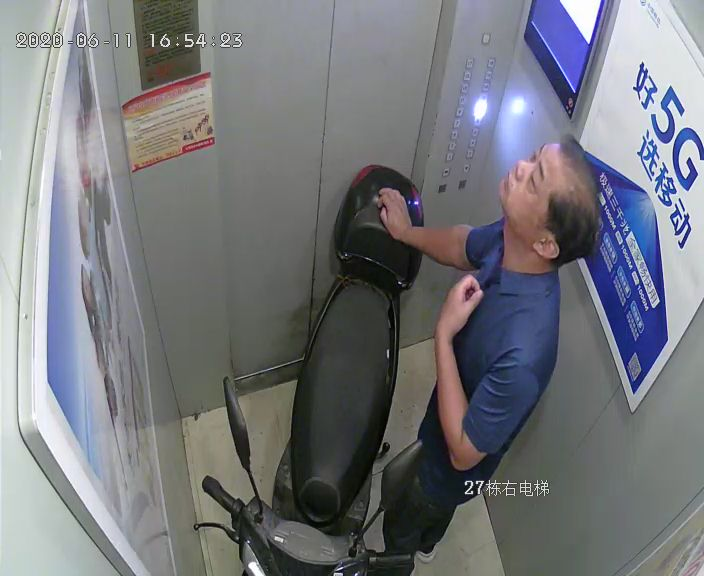Electric-bicycle: (254, 169, 418, 576)
